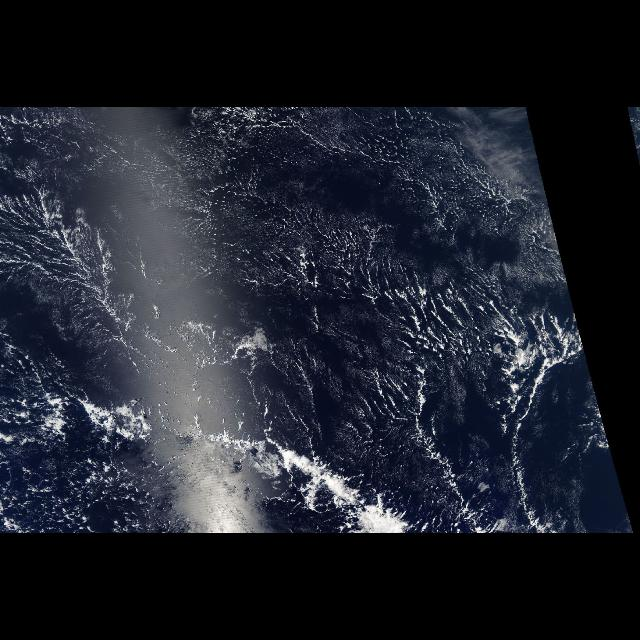Sugar: (141, 114, 517, 294)
